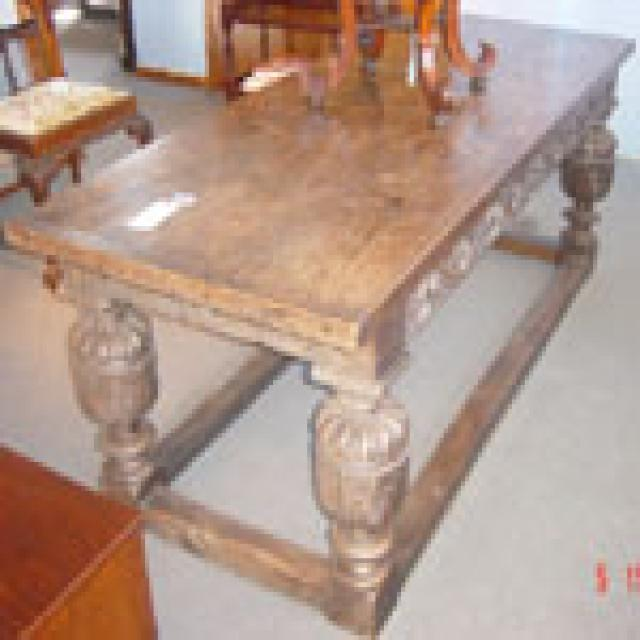table: (0, 5, 636, 640)
